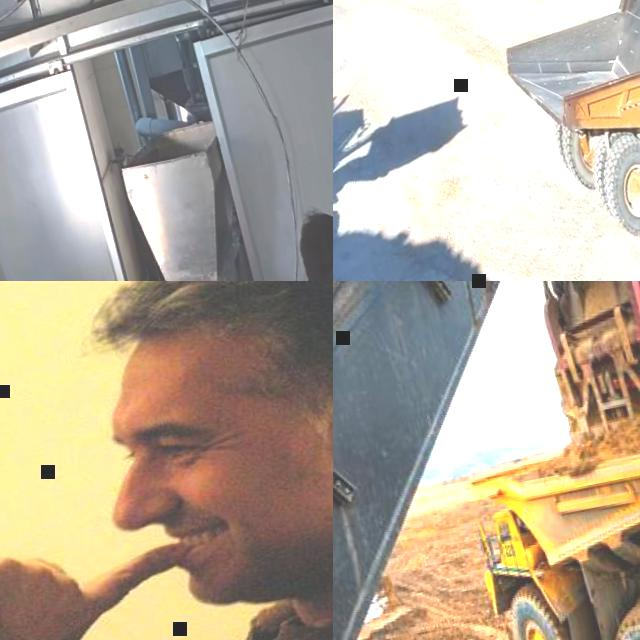machinery: (333, 281, 640, 640), (457, 399, 640, 640), (485, 0, 640, 262)
no_helmet: (97, 281, 333, 381), (293, 206, 333, 257)
no_mask: (163, 468, 333, 612)
person: (0, 281, 333, 640)
